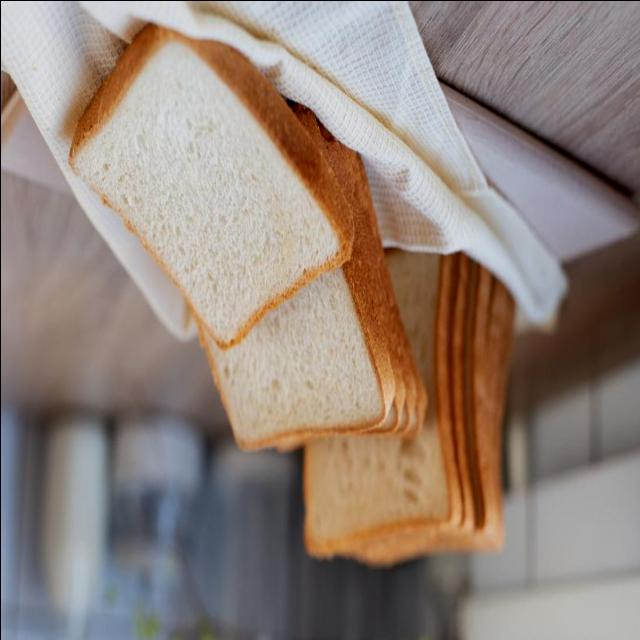roti tawar: (67, 22, 349, 347)
